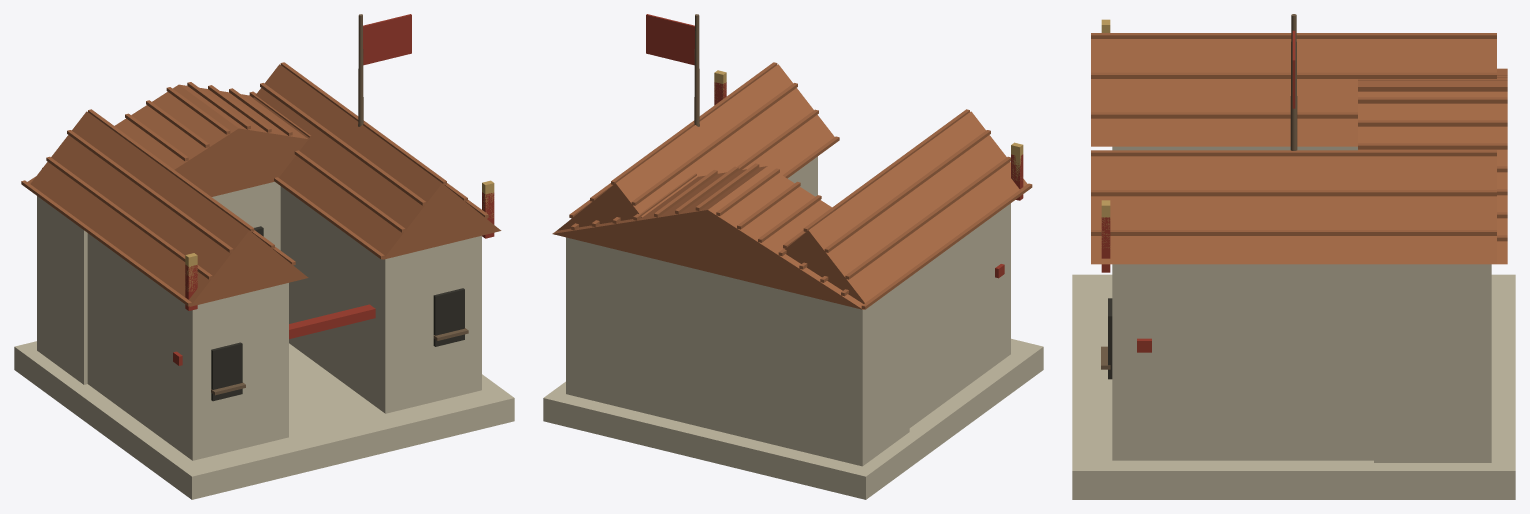
Rendered from b-mine-roman.glb.
3 renders of one model, left to right at view 1: azimuth 30°, elevation 25°; view 2: azimuth 150°, elevation 25°; view 3: azimuth 270°, elevation 25°, orthographic. The views are drawn at different scales.
Parts seen in each view (by area): view 1: Structure, era1, era3; view 2: Structure; view 3: Structure.
Part boxes in pixels (left/top/right/bottom): Structure: left=14, top=14, right=514, bottom=499; era1: left=185, top=201, right=494, bottom=310; era3: left=185, top=180, right=494, bottom=291; Structure: left=543, top=14, right=1043, bottom=499; Structure: left=1072, top=14, right=1515, bottom=499.
Bounding box in the file's own units: 4.35 × 4.6 × 4.15.
